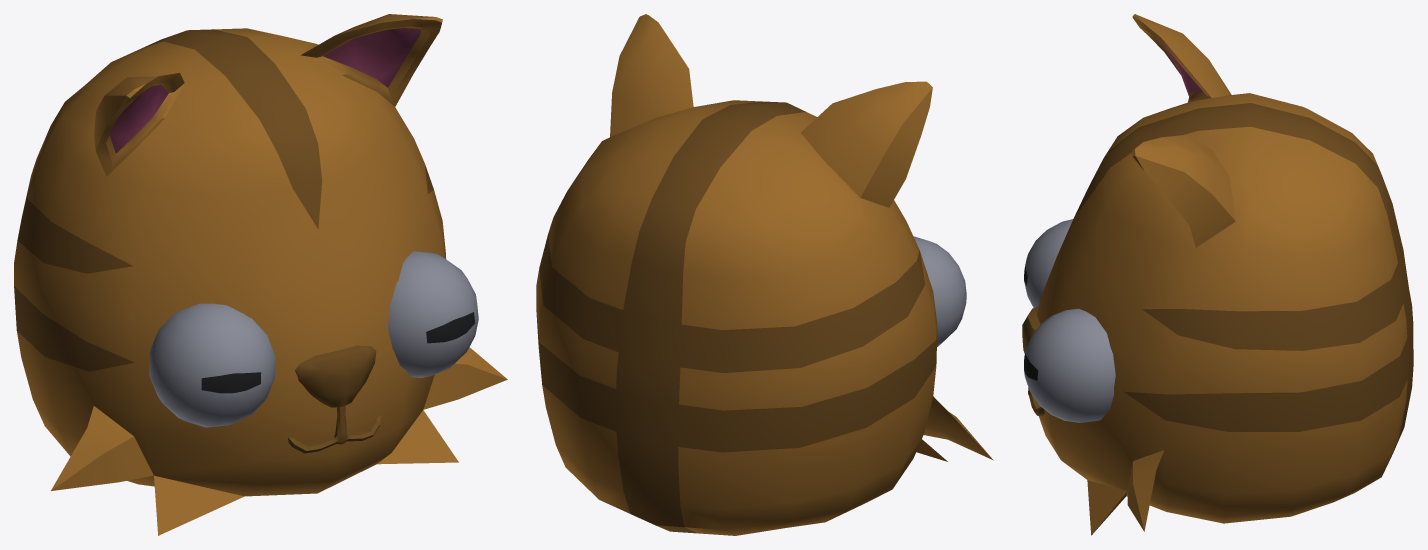
The model's file is q_cat.glb.
The picture shows the model from 3 angles, left to right: view 1: azimuth 30°, elevation 25°; view 2: azimuth 150°, elevation 25°; view 3: azimuth 270°, elevation 25°; orthographic projection. The views are drawn at different scales.
Parts seen in each view (by area): view 1: Cat_Blob_b; view 2: Cat_Blob_b; view 3: Cat_Blob_b.
Part boxes in pixels (<box>): Cat_Blob_b: <box>14,14,507,535</box>; Cat_Blob_b: <box>536,14,993,535</box>; Cat_Blob_b: <box>1022,14,1413,535</box>.
Size of the model in its own units: 1.06 by 1 by 0.8682.
